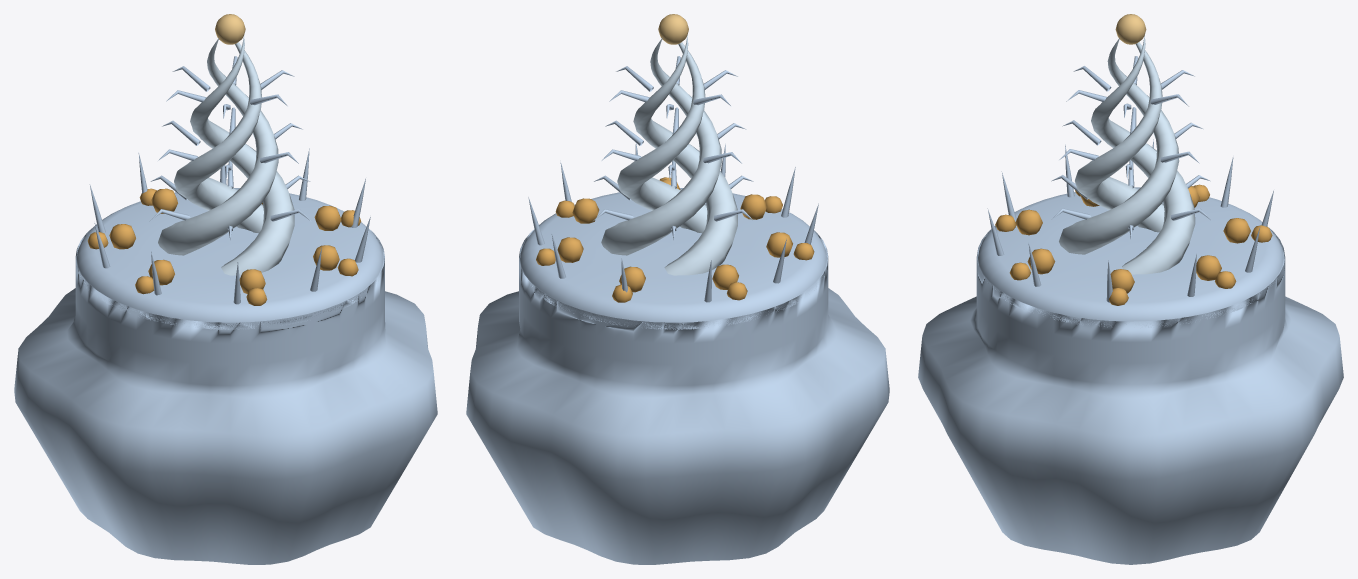
The model's file is landmark_spire.glb.
3 renders of one model, left to right at view 1: azimuth 30°, elevation 25°; view 2: azimuth 150°, elevation 25°; view 3: azimuth 270°, elevation 25°, orthographic.
Parts seen in each view (by area): view 1: LandmarkSpire, Growth_Beads, Growth_Needles; view 2: LandmarkSpire, Growth_Beads, Growth_Needles; view 3: LandmarkSpire, Growth_Beads, Growth_Needles.
Boxes of the visible parts, bbox=[...] form: LandmarkSpire: bbox=[14, 14, 437, 564]; Growth_Beads: bbox=[87, 188, 361, 305]; Growth_Needles: bbox=[89, 148, 370, 304]; LandmarkSpire: bbox=[466, 14, 889, 564]; Growth_Beads: bbox=[536, 177, 814, 302]; Growth_Needles: bbox=[528, 143, 818, 302]; LandmarkSpire: bbox=[918, 14, 1343, 564]; Growth_Beads: bbox=[995, 184, 1272, 305]; Growth_Needles: bbox=[987, 139, 1273, 302].
Size of the model in its own units: 5.44 by 7.15 by 5.52.
